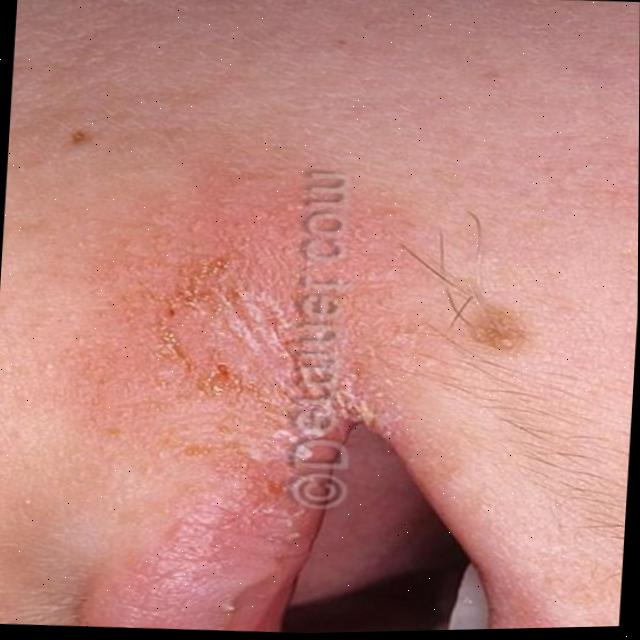Eczema: (198, 265, 383, 418), (427, 256, 526, 372)
